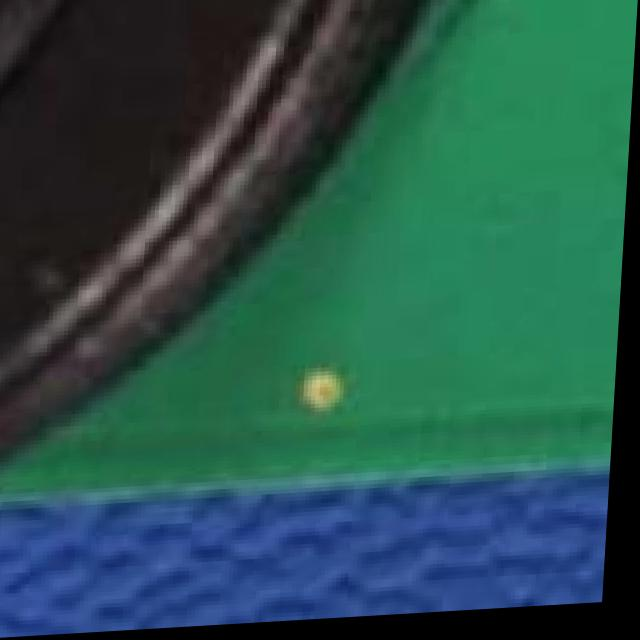buzzer: (0, 0, 636, 584)
